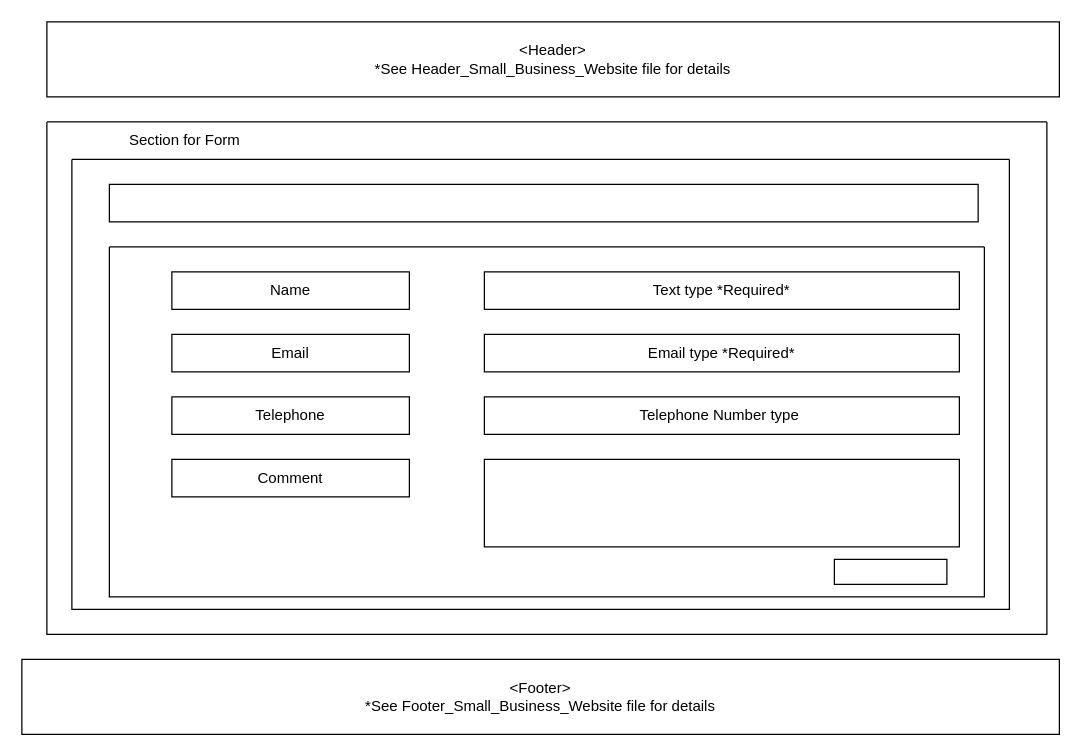
Some shapes in this 1081 by 756 pixel diagram are drawn without their labels. Each missing label, with the centre of its shape:
<btn> SUBMIT: (890,571)
Form Header: (543,202)
Text area type *Required*: (721,502)
